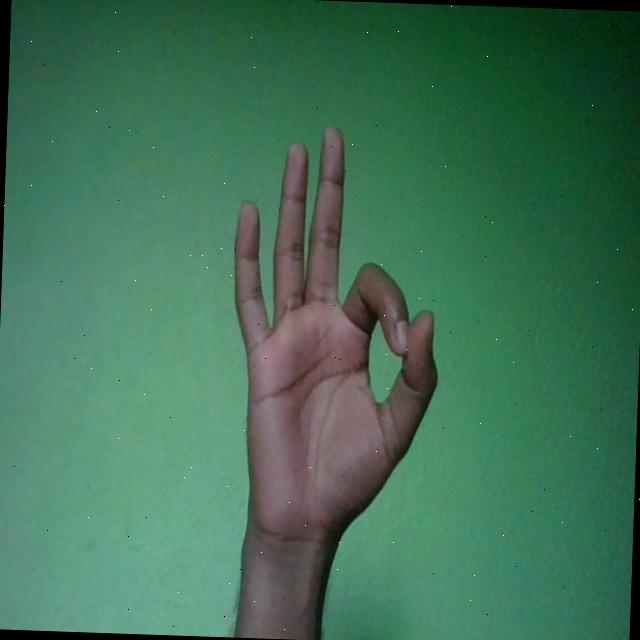Rock On: (223, 119, 447, 557)
